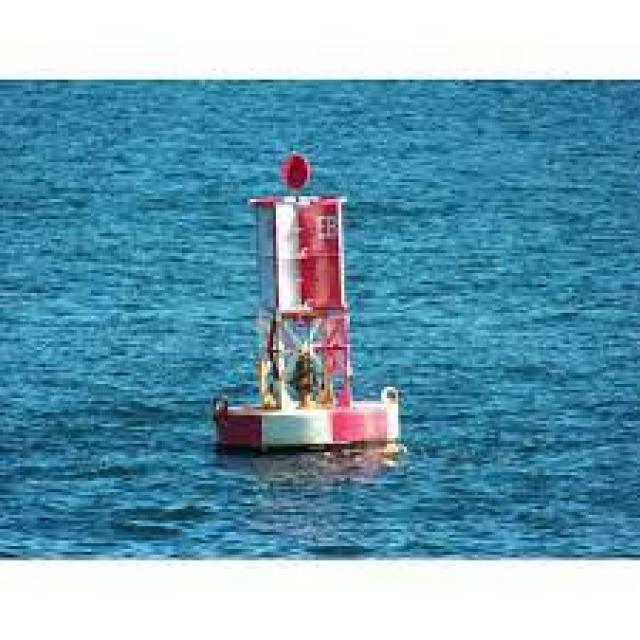buoy: (179, 120, 425, 463)
